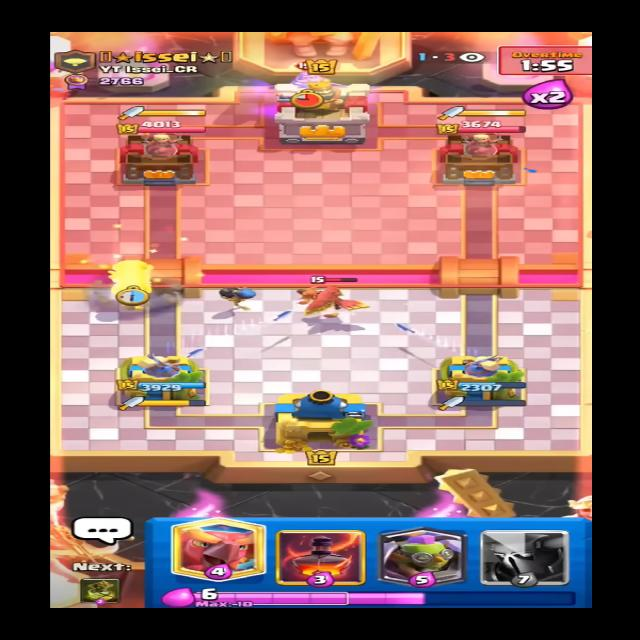phoenix: (296, 276, 387, 314)
